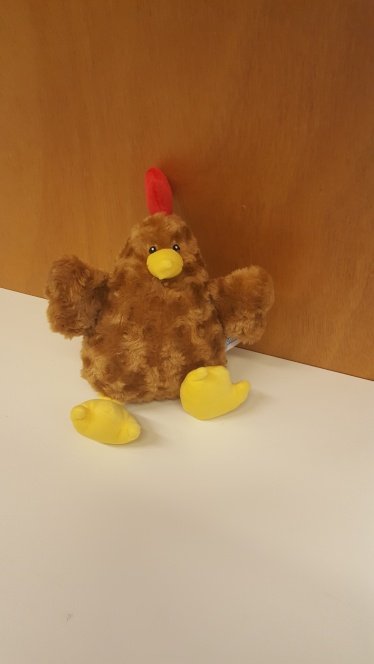chicken_front: (43, 164, 276, 447)
